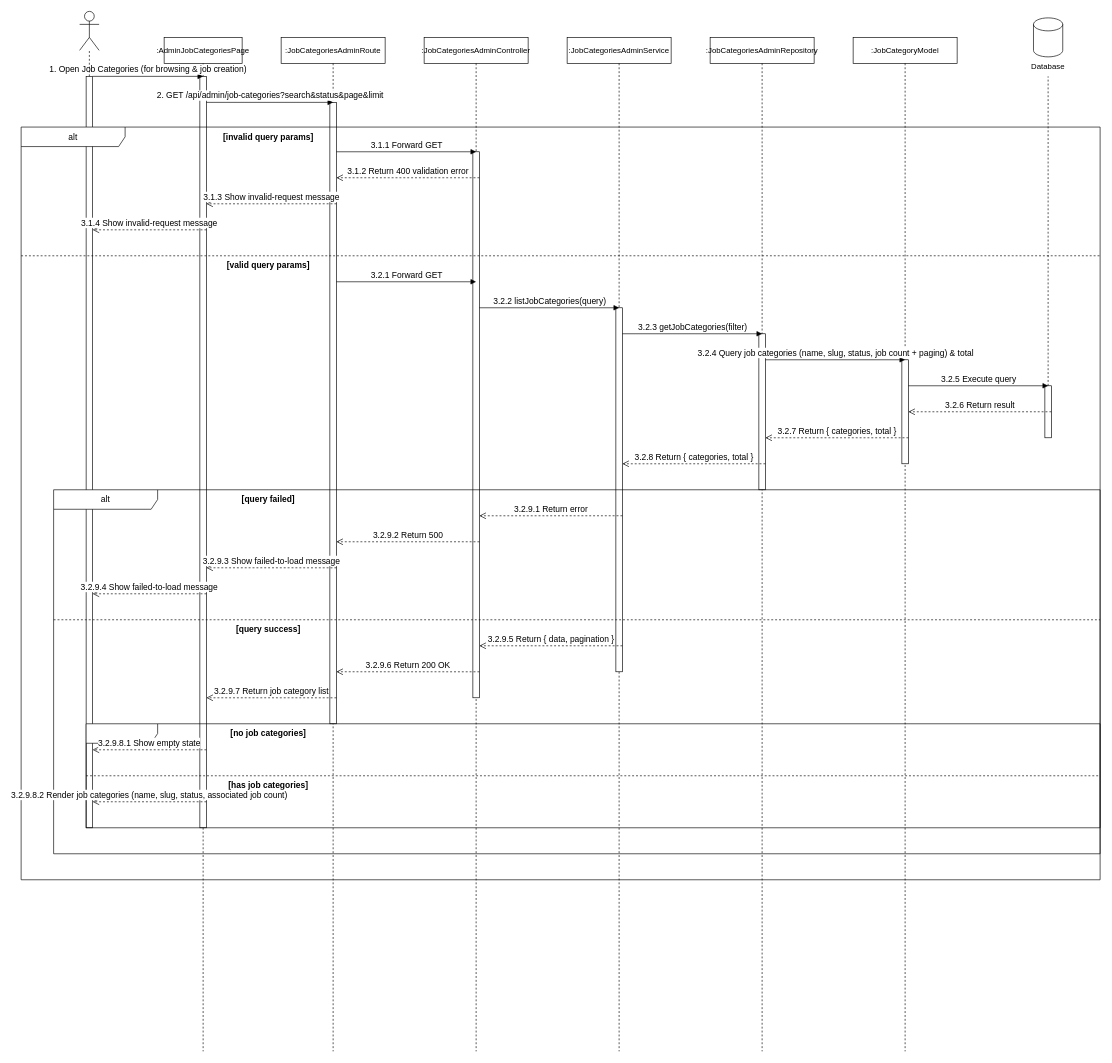
Some shapes in this 1112 by 1063 pixel diagram are drawn without their labels. Each missing label, with the box of its shape:
Admin: (79, 11, 99, 50)
opt: (85, 723, 1100, 828)
